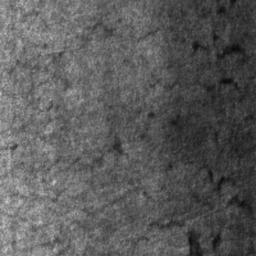Crazing: (16, 16, 251, 80), (43, 133, 125, 174), (191, 164, 253, 216), (82, 186, 178, 218), (147, 217, 222, 256), (149, 74, 249, 95), (228, 129, 256, 166), (21, 8, 51, 30)
